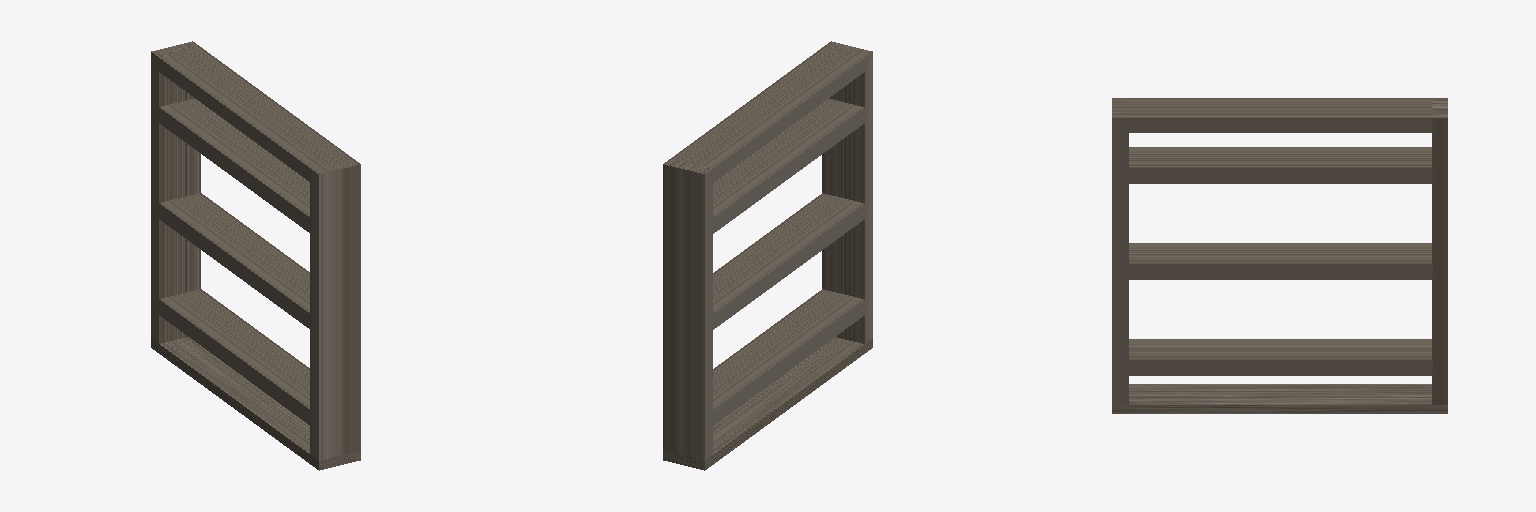
The picture shows the model from 3 angles: view 1: azimuth 30°, elevation 25°; view 2: azimuth 150°, elevation 25°; view 3: azimuth 270°, elevation 25°; orthographic projection.
Visible parts, largest first — view 1: Cube; view 2: Cube; view 3: Cube.
Part boxes in pixels (left/top/right/bottom): Cube: left=151, top=41, right=360, bottom=470; Cube: left=663, top=41, right=872, bottom=470; Cube: left=1112, top=98, right=1447, bottom=413.
Bounding box in the file's own units: 4.62 × 31.03 × 31.88.
Materials: 1 (1 with a texture image).